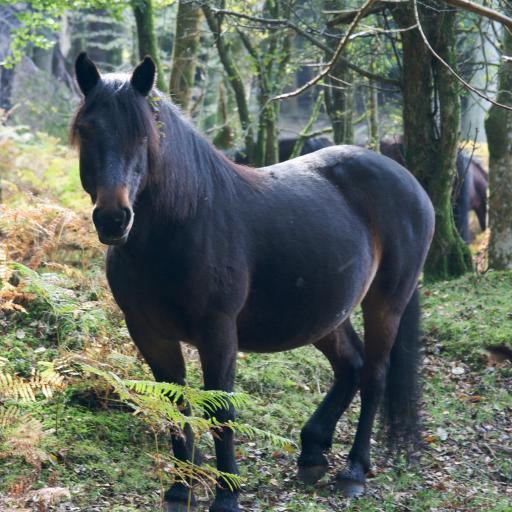Horse: (68, 50, 436, 512)
